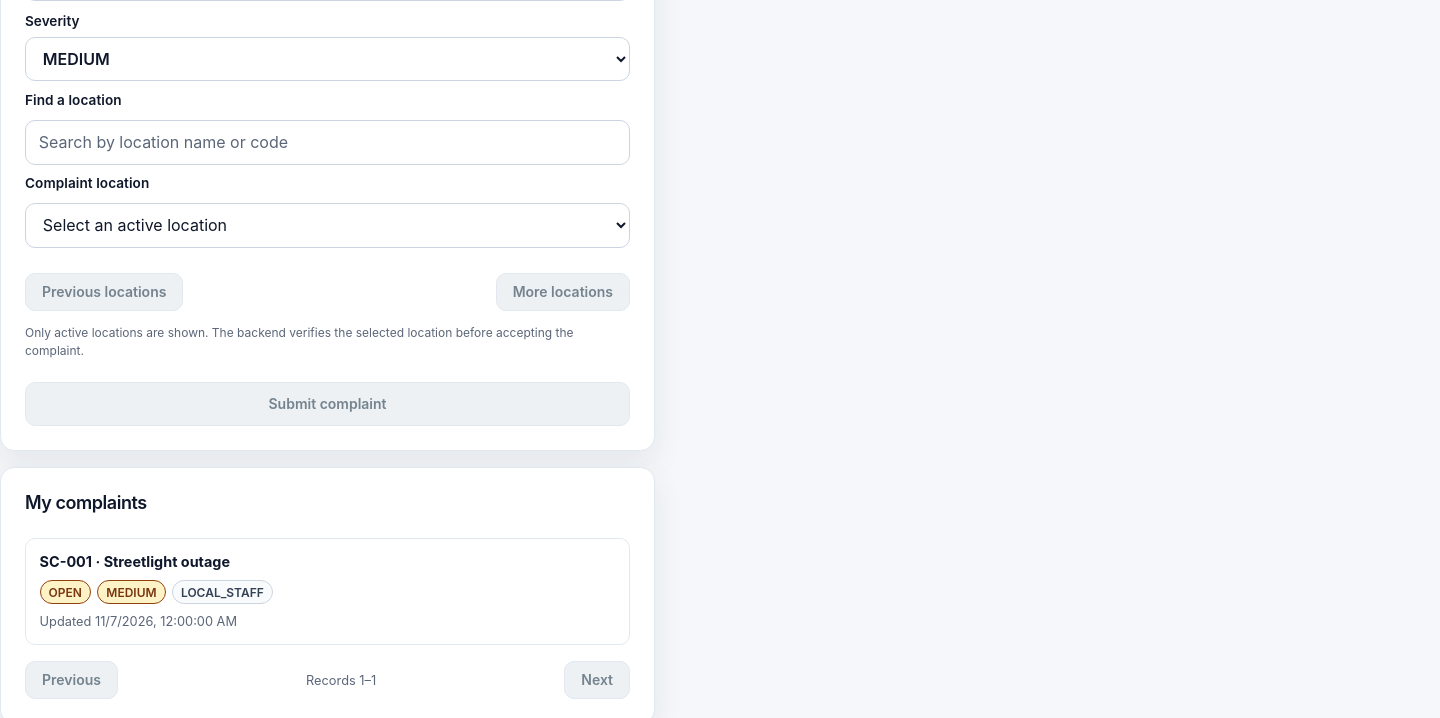
Scenario: ComplaintsPage workflow actions › does not show workflow actions to a RESIDENT
The image size is (1440, 718).
(page scrolled)
Click the button "SC-001". click: (66, 562)
box: [25,538,630,645]
(page scrolled)
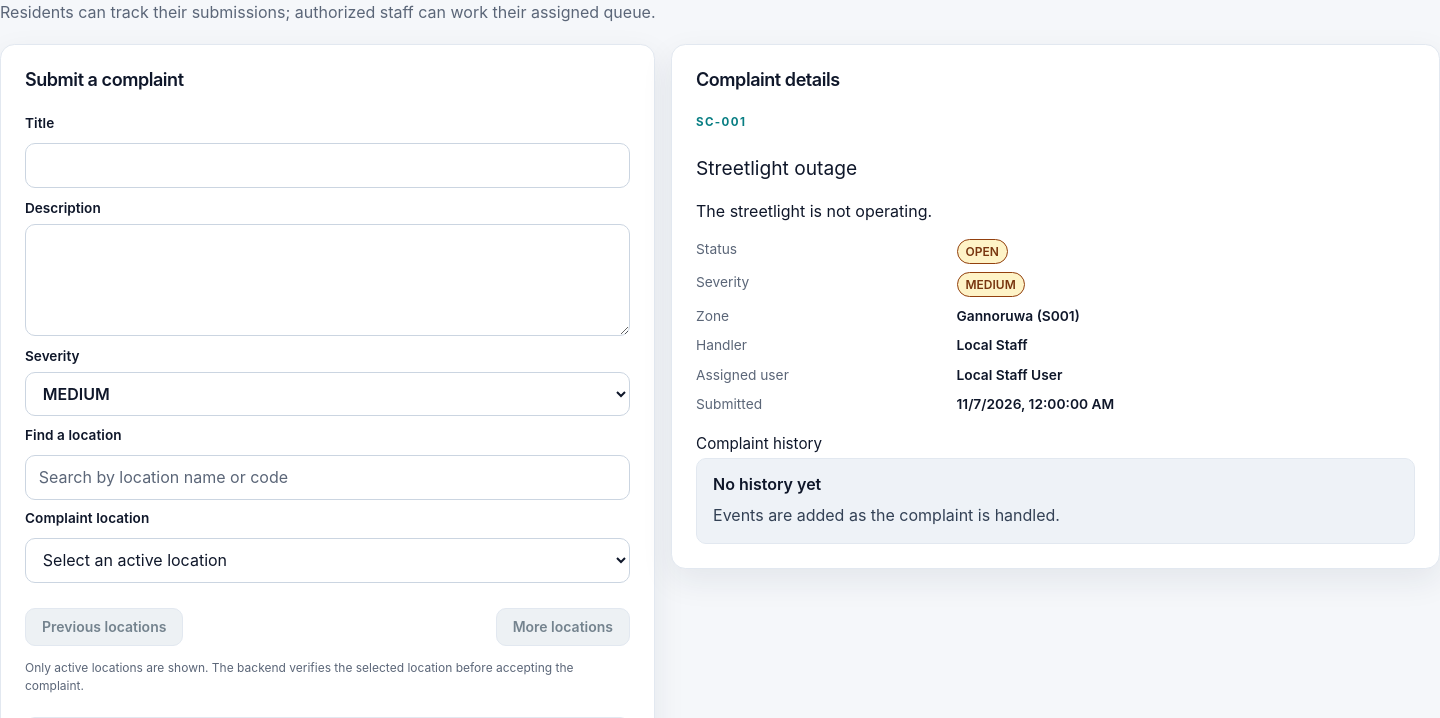
Result: the heading "Streetlight outage" is shown at [696,156,857,180]
